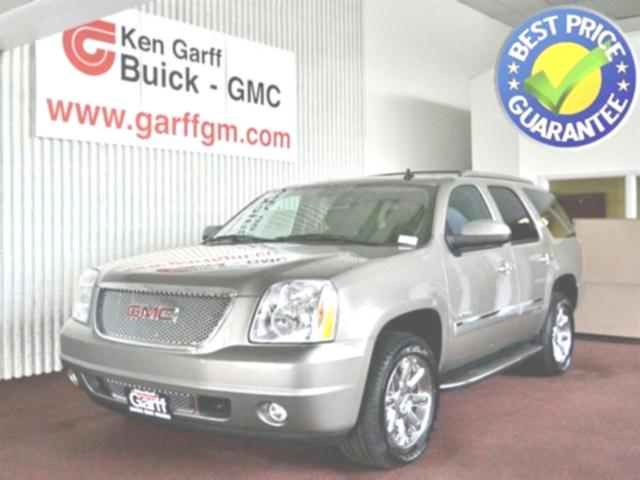GMC: (119, 299, 182, 328)
